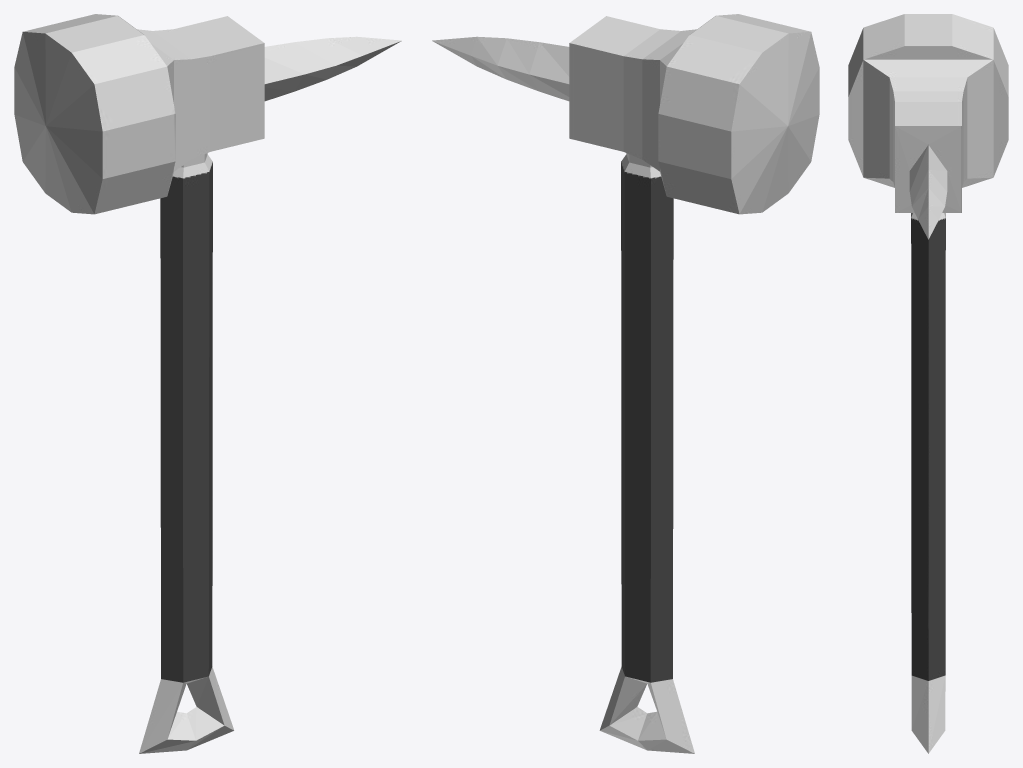
File: steel-hammer.obj
The picture shows the model from 3 angles, left to right: view 1: azimuth 30°, elevation 25°; view 2: azimuth 150°, elevation 25°; view 3: azimuth 270°, elevation 25°; orthographic projection. The views are drawn at different scales.
Visible parts, largest first — view 1: Mesh_Mesh_KingdomHammer_Cu; view 2: Mesh_Mesh_KingdomHammer_Cu; view 3: Mesh_Mesh_KingdomHammer_Cu.
Part boxes in pixels (x1,y1,x2,y2): Mesh_Mesh_KingdomHammer_Cu: [14, 14, 401, 753]; Mesh_Mesh_KingdomHammer_Cu: [432, 14, 819, 753]; Mesh_Mesh_KingdomHammer_Cu: [848, 14, 1008, 753].
Size of the model in its own units: 0.8686 by 1.72 by 0.3723.
Materials: 2 (2 with a texture image).
